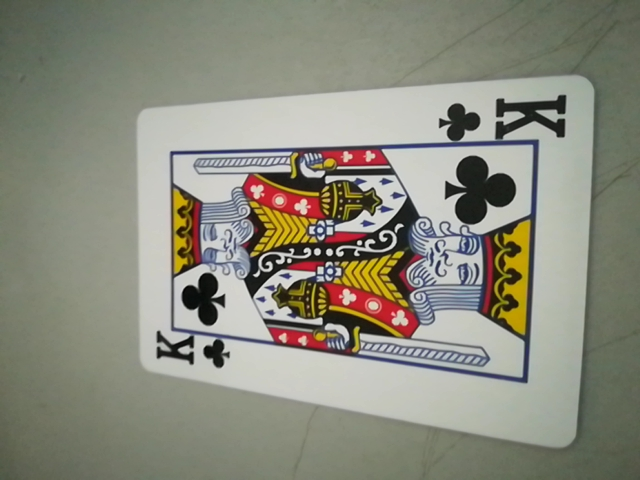mh k: (434, 91, 571, 145), (149, 326, 234, 374)
